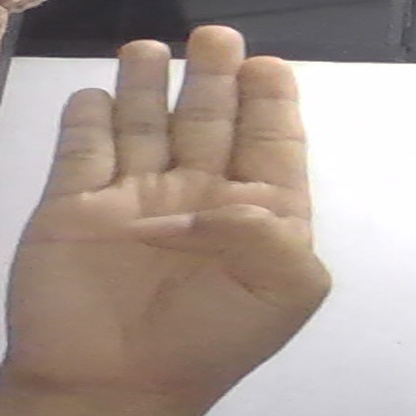B: (4, 23, 330, 391)
